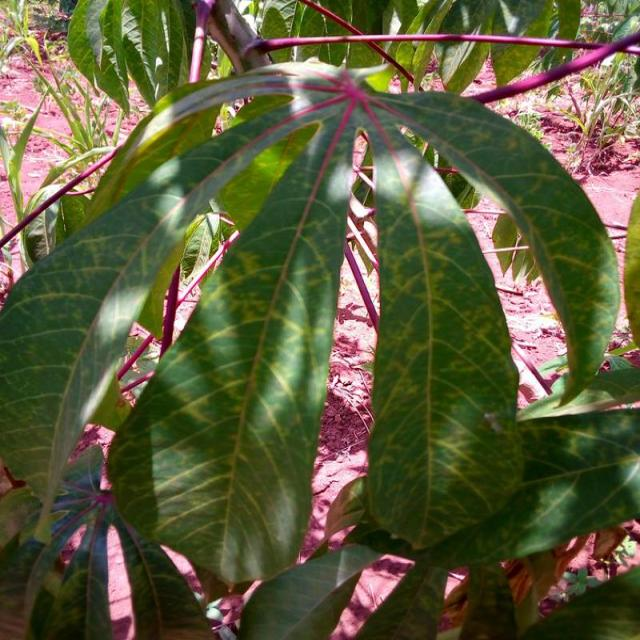cassava leaf: (2, 58, 636, 634), (364, 126, 522, 551)
